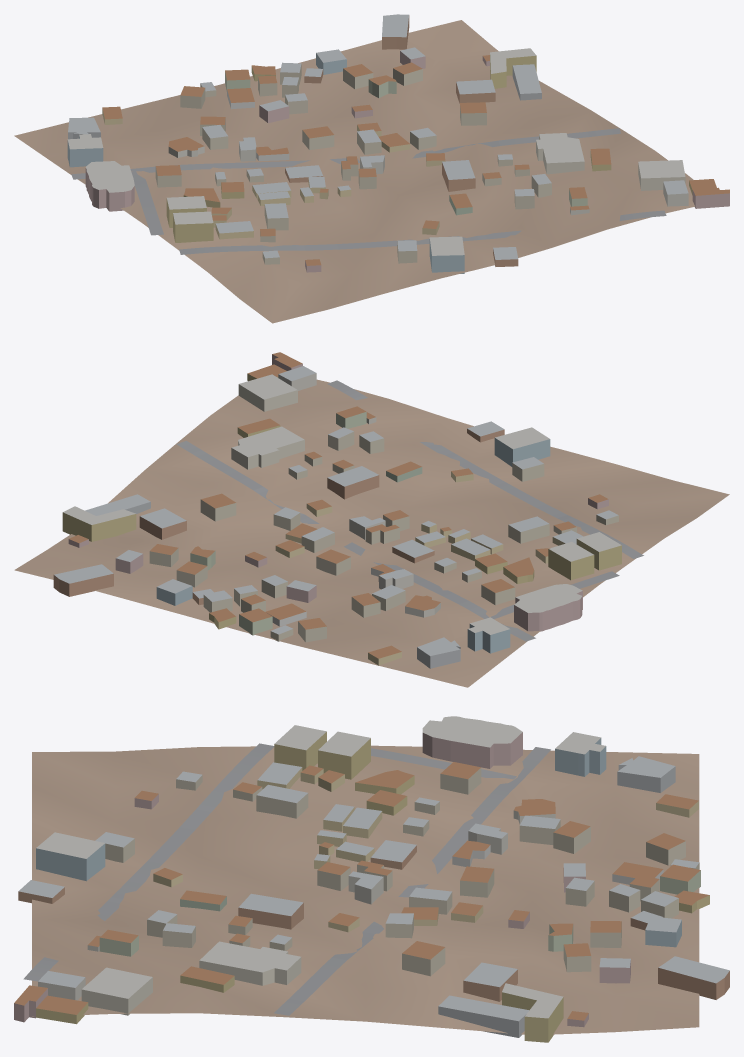
3 renders of one model, top to bottom at view 1: azimuth 30°, elevation 25°; view 2: azimuth 150°, elevation 25°; view 3: azimuth 270°, elevation 25°, orthographic. The views are drawn at different scales.
Visible parts, largest first — view 1: Lo; view 2: Lo; view 3: Lo.
Part boxes in pixels (<box>): Lo: <box>14,14,729,323</box>; Lo: <box>14,352,729,687</box>; Lo: <box>14,716,729,1042</box>.
Size of the model in its own units: 271 by 15.72 by 275.
